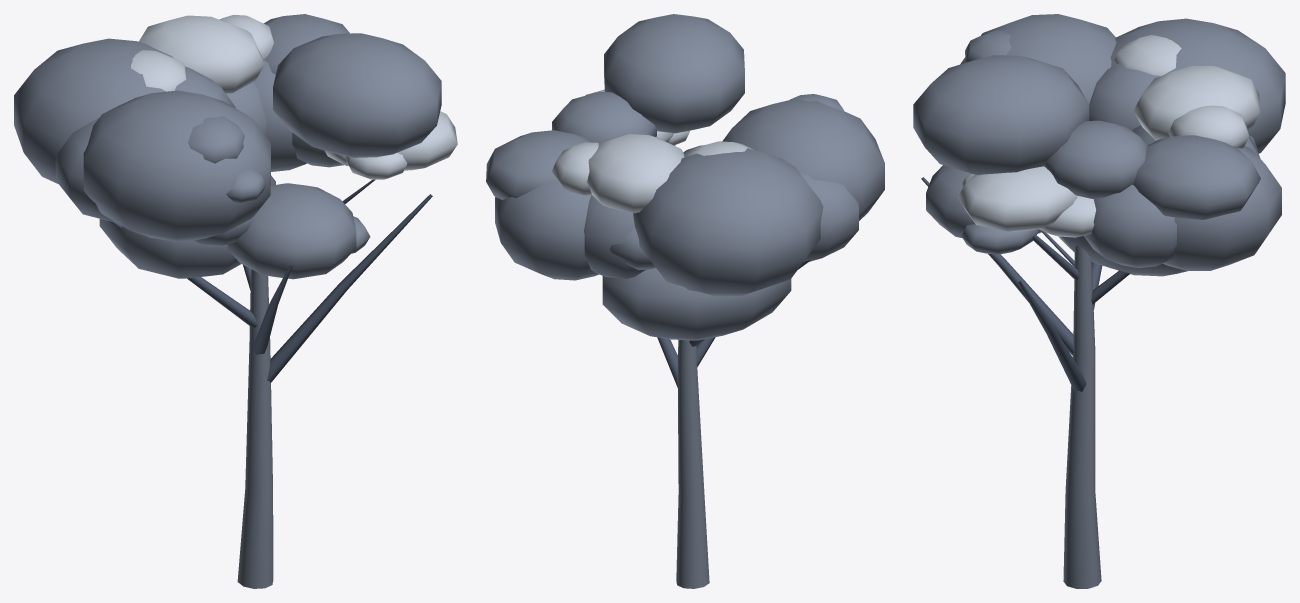
The model's file is 庭院乔木-lite.glb.
3 views of the same model, side by side, from view 1: azimuth 30°, elevation 25°; view 2: azimuth 150°, elevation 25°; view 3: azimuth 270°, elevation 25° (orthographic). The views are drawn at different scales.
Parts seen in each view (by area): view 1: garden-tree-leaf, garden-tree-light, garden-tree-trunk, garden-tree-branch; view 2: garden-tree-leaf, garden-tree-light, garden-tree-trunk, garden-tree-branch; view 3: garden-tree-leaf, garden-tree-light, garden-tree-trunk, garden-tree-branch.
Part boxes in pixels (<box>): garden-tree-leaf: <box>14,14,441,279</box>; garden-tree-light: <box>131,15,457,179</box>; garden-tree-trunk: <box>237,269,273,588</box>; garden-tree-branch: <box>109,179,432,382</box>; garden-tree-leaf: <box>486,14,884,340</box>; garden-tree-light: <box>552,89,753,213</box>; garden-tree-trunk: <box>676,340,709,588</box>; garden-tree-branch: <box>657,145,810,387</box>; garden-tree-leaf: <box>913,14,1285,276</box>; garden-tree-light: <box>957,35,1260,237</box>; garden-tree-trunk: <box>1063,246,1101,588</box>; garden-tree-branch: <box>921,177,1130,391</box>.
Bounding box in the file's own units: 2.2 × 3.4 × 2.1.
